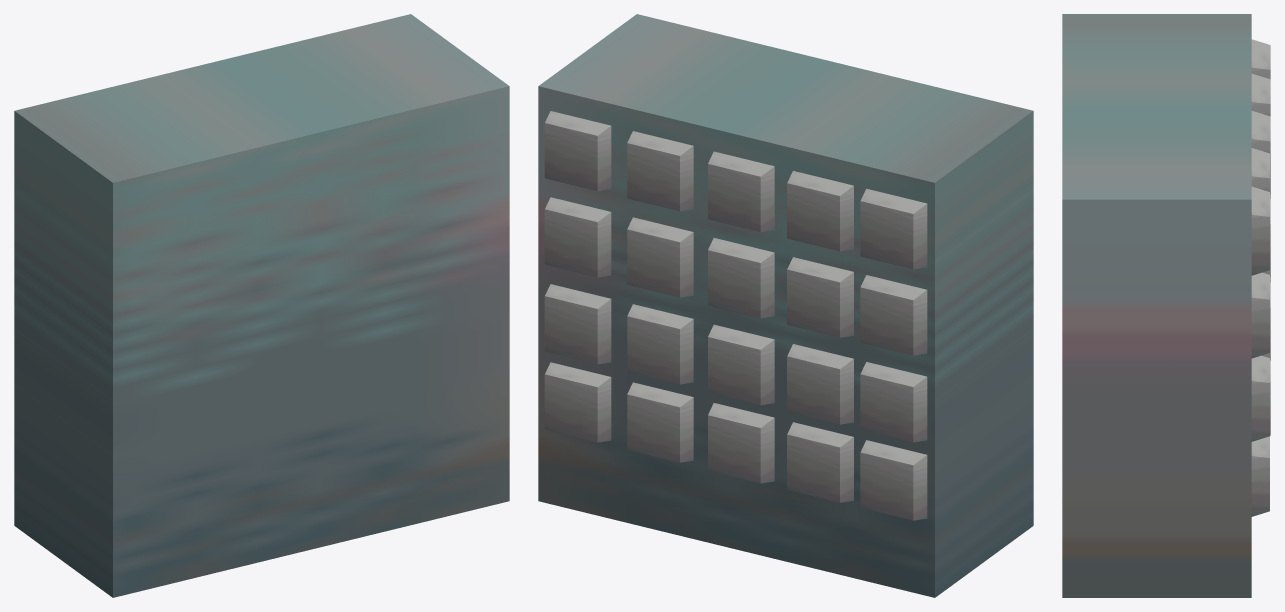
3 renders of one model, left to right at view 1: azimuth 30°, elevation 25°; view 2: azimuth 150°, elevation 25°; view 3: azimuth 270°, elevation 25°, orthographic. The views are drawn at different scales.
Parts seen in each view (by area): view 1: CommandCenterLikeControlsSetup; view 2: CommandCenterLikeControlsSetup; view 3: CommandCenterLikeControlsSetup.
Boxes of the visible parts, x1,y1,x2,y2 form: CommandCenterLikeControlsSetup: [14, 14, 509, 597]; CommandCenterLikeControlsSetup: [538, 14, 1033, 597]; CommandCenterLikeControlsSetup: [1062, 14, 1270, 597].
Size of what is drawn, in the model's own units: 0.5847 by 0.5847 by 0.2771.
1 material, 1 textured.
